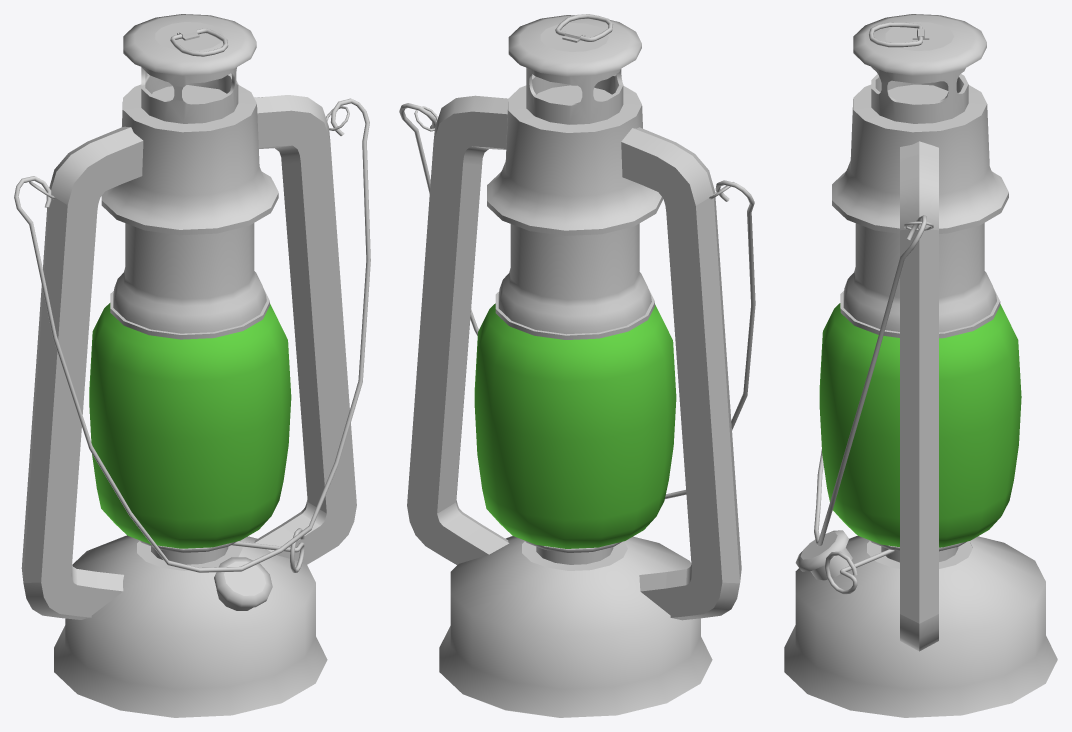
Rendered from Lamp_2.fbx.
The picture shows the model from 3 angles, left to right: view 1: azimuth 30°, elevation 25°; view 2: azimuth 150°, elevation 25°; view 3: azimuth 270°, elevation 25°; orthographic projection.
Visible parts, largest first — view 1: Lamp_2; view 2: Lamp_2; view 3: Lamp_2.
Part boxes in pixels (x1=…): Lamp_2: x1=14, y1=14, x2=370, y2=717; Lamp_2: x1=399, y1=14, x2=755, y2=717; Lamp_2: x1=784, y1=14, x2=1057, y2=717.
Bounding box in the file's own units: 0.2071 × 0.3519 × 0.1391.
